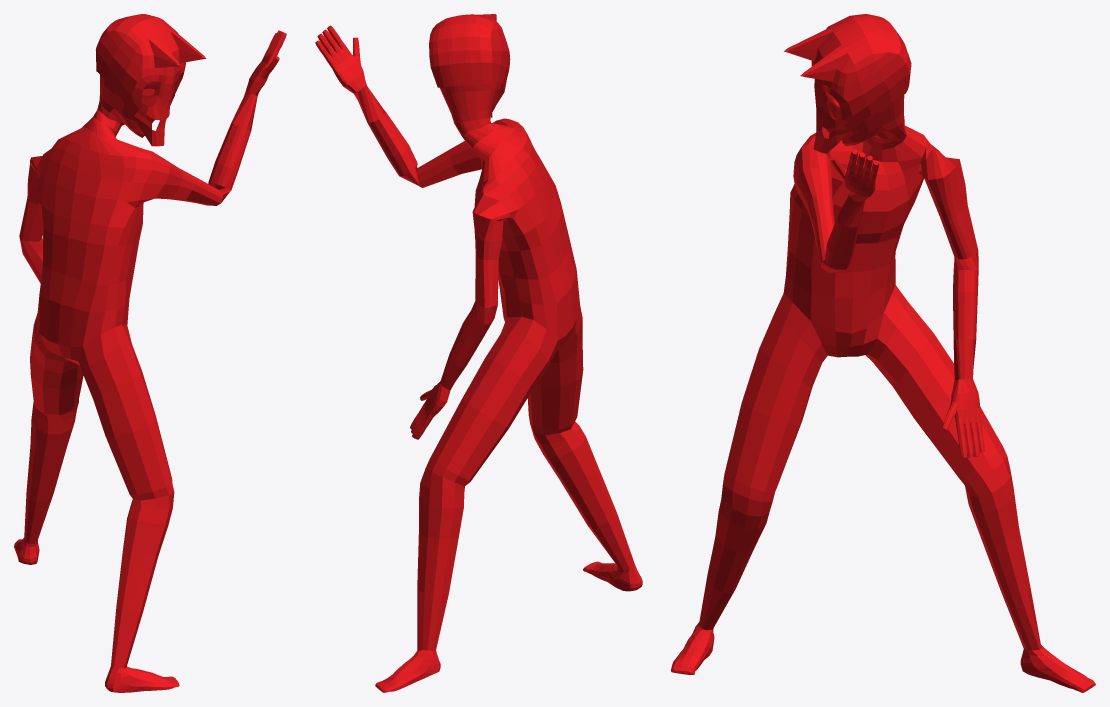
The model's file is activaAlarma_000123.obj.
The picture shows the model from 3 angles, left to right: view 1: azimuth 30°, elevation 25°; view 2: azimuth 150°, elevation 25°; view 3: azimuth 270°, elevation 25°; orthographic projection. The views are drawn at different scales.
Visible parts, largest first — view 1: Plane.002_Plane.001; view 2: Plane.002_Plane.001; view 3: Plane.002_Plane.001.
Part boxes in pixels (box(x1,y1,x2,y2)): Plane.002_Plane.001: box(14, 14, 286, 692); Plane.002_Plane.001: box(315, 14, 642, 692); Plane.002_Plane.001: box(671, 14, 1095, 692).
Bounding box in the file's own units: 2.89 × 6.64 × 3.75.
